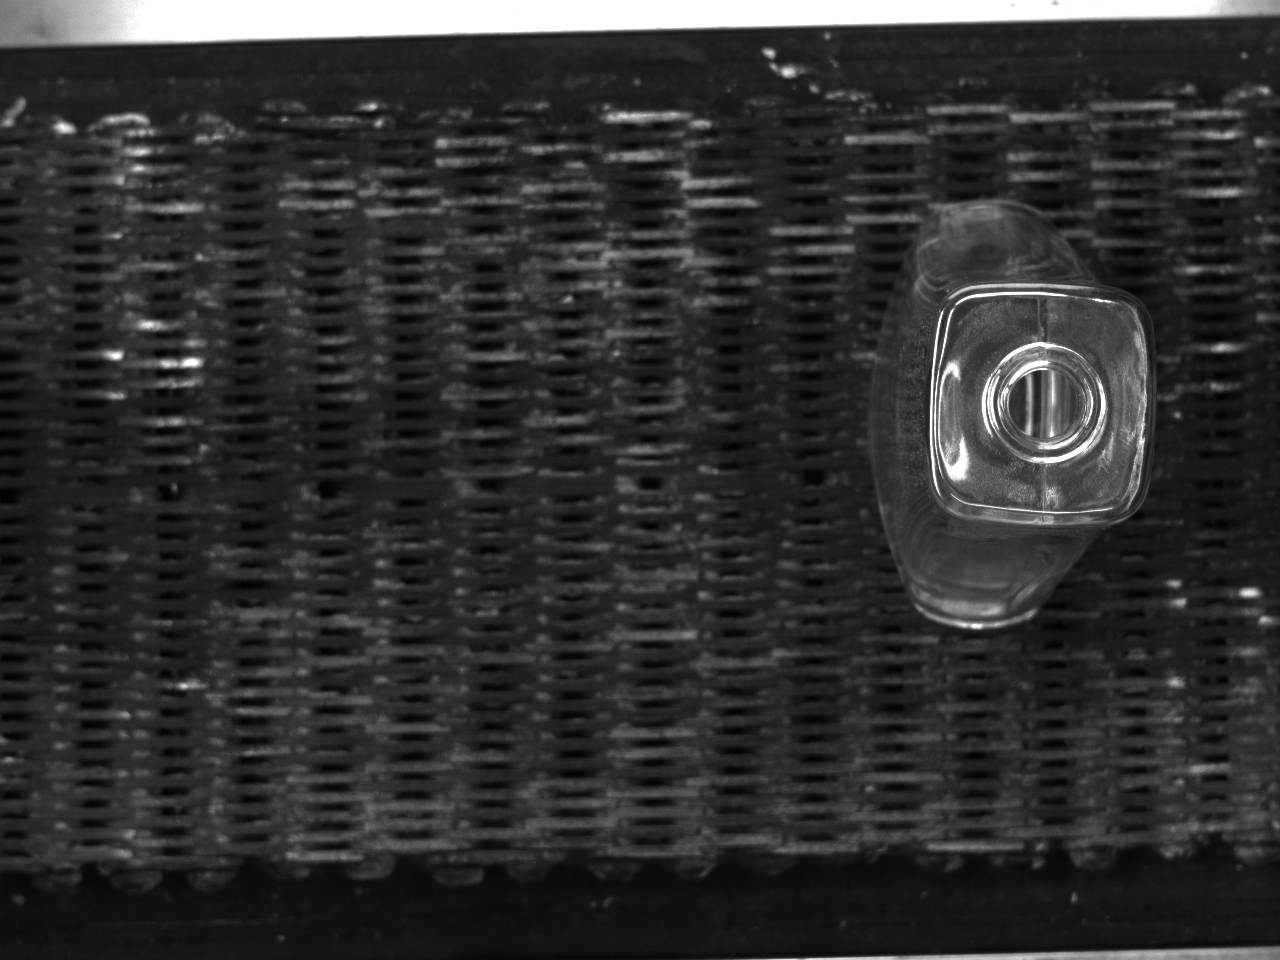bottleneck: (987, 343, 1108, 461)
